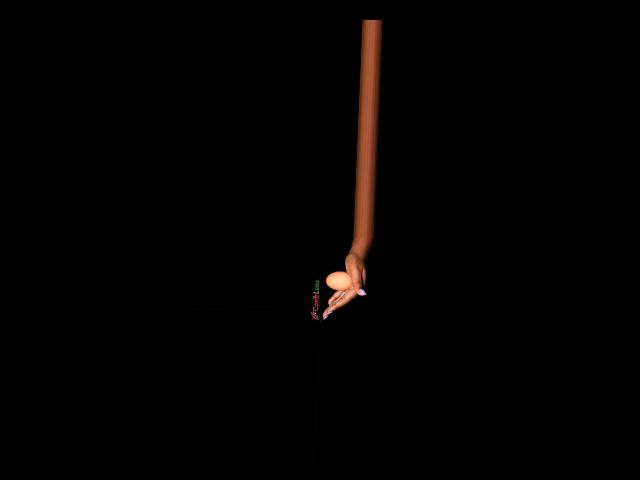egg: (325, 270, 352, 291)
